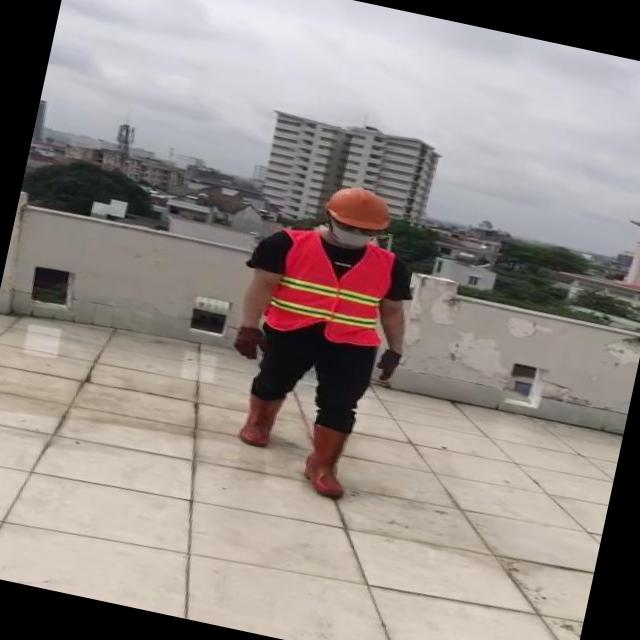boots: (296, 421, 362, 504), (237, 389, 286, 452)
helmet: (311, 176, 402, 237)
vest: (266, 229, 400, 352)
